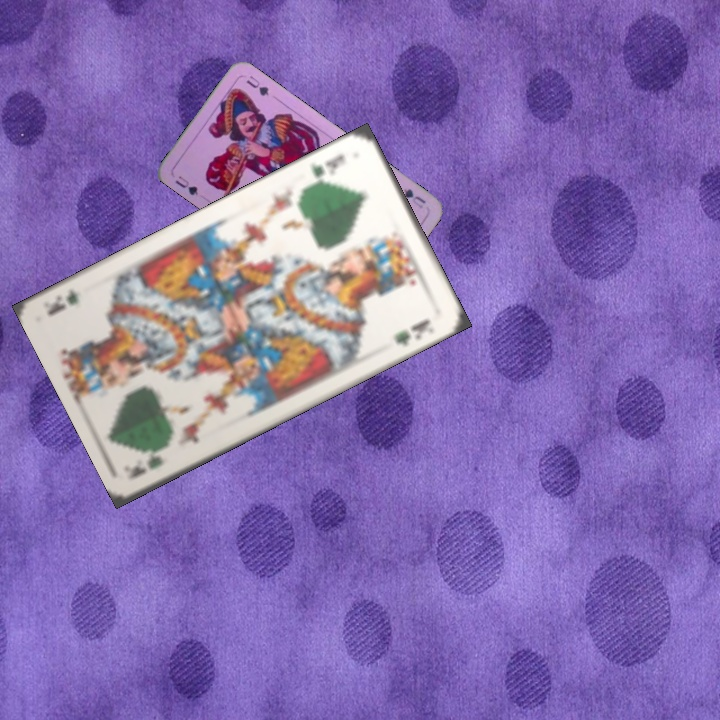GK: (304, 150, 348, 189), (127, 451, 163, 481)
GU: (171, 171, 201, 198), (399, 184, 429, 211)
